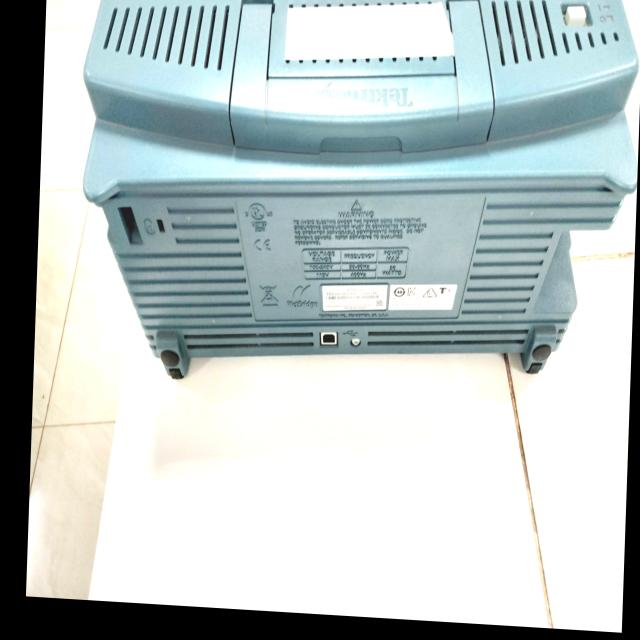Digital Oscilloscope: (67, 0, 640, 413)
